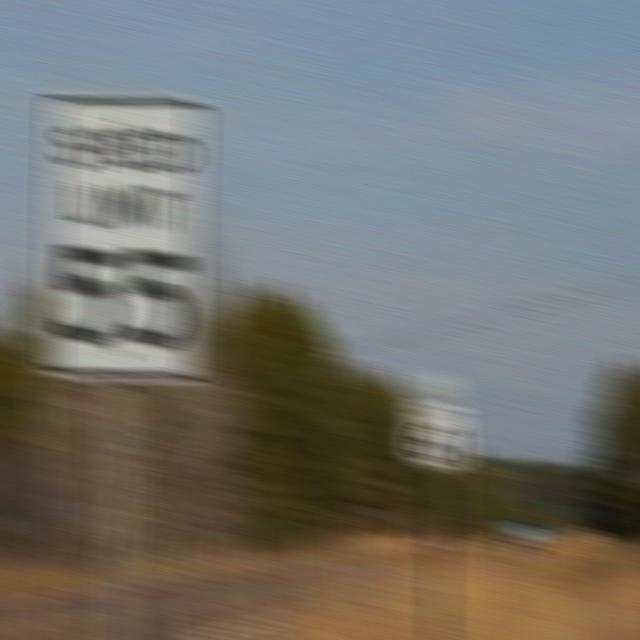speedLimit55: (44, 90, 212, 389)
